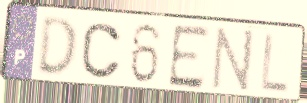6: (128, 22, 163, 87)
C: (79, 20, 124, 82)
D: (35, 15, 80, 81)
E: (166, 22, 212, 92)
L: (258, 31, 291, 97)
N: (209, 26, 257, 96)
